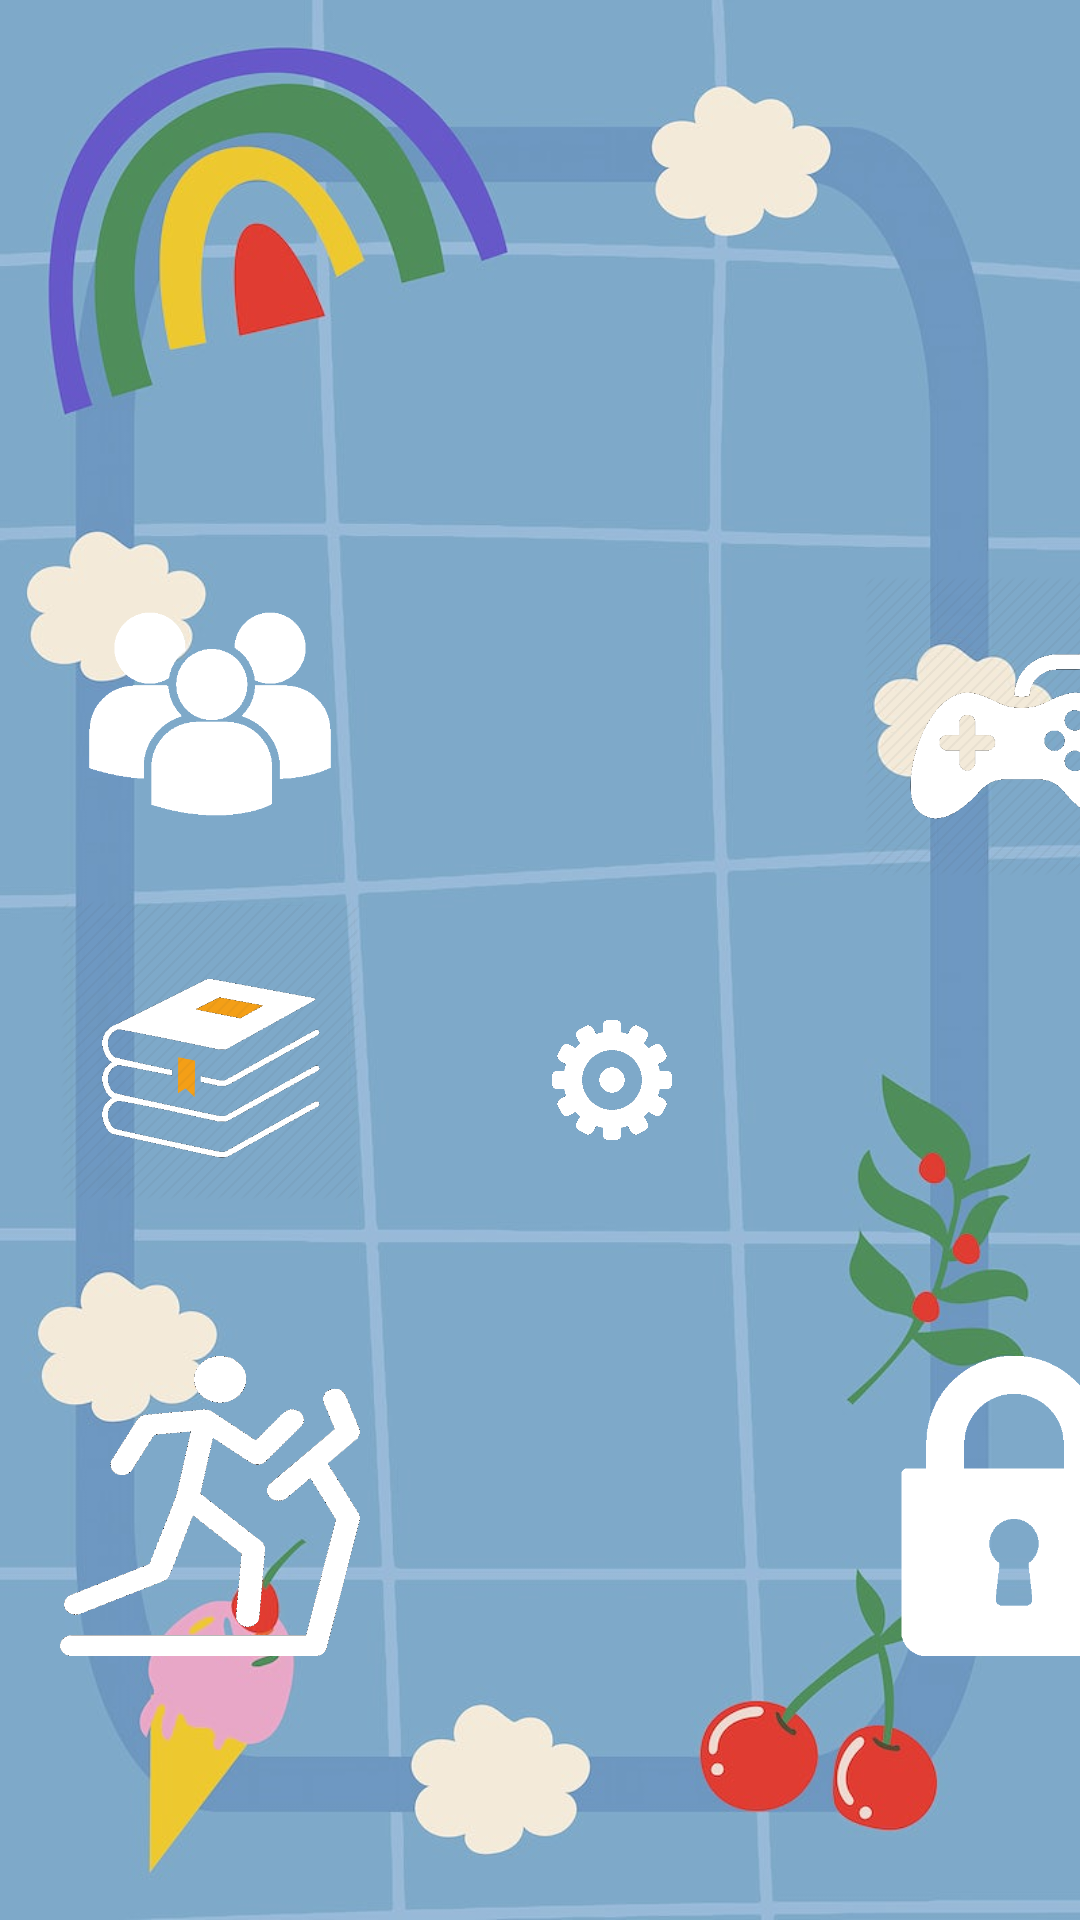

Named icons in this screenshot (1080×1920) and their bounding boxes, (x1, y1, x2, y2):
settings: (552, 1020, 672, 1140)
social: (77, 612, 331, 816)
sport: (60, 1356, 360, 1656)
study: (77, 905, 358, 1192)
